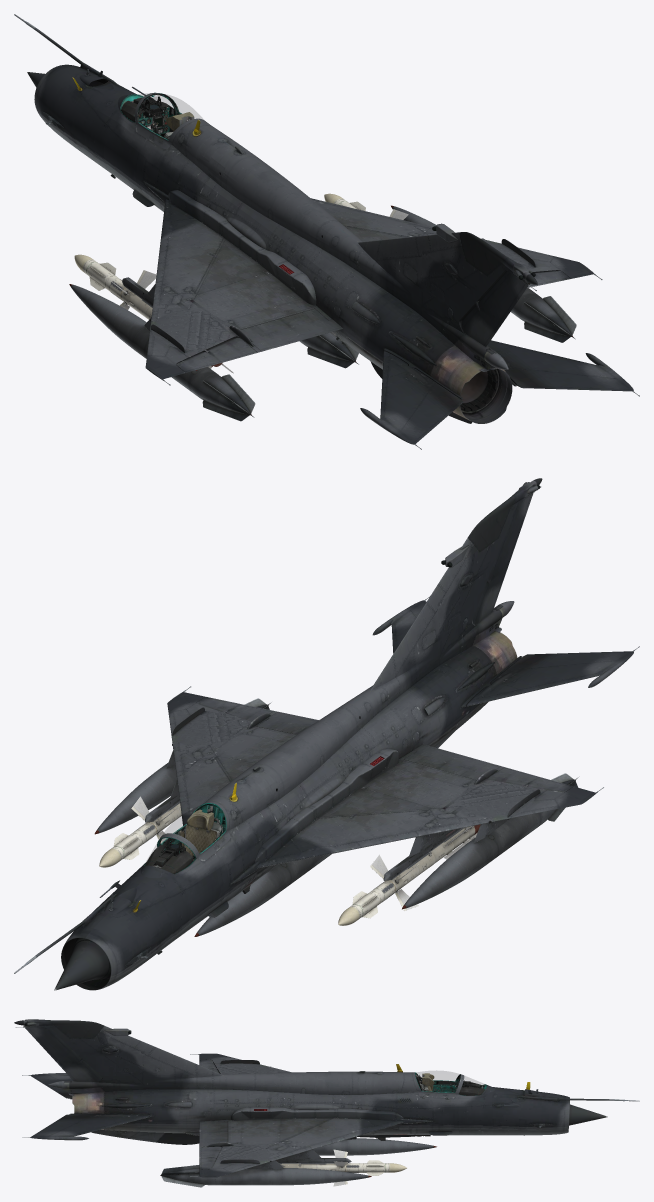
The model's file is mig21_hostile.glb.
The picture shows the model from 3 angles, top to bottom: view 1: azimuth 30°, elevation 25°; view 2: azimuth 150°, elevation 25°; view 3: azimuth 270°, elevation 25°; orthographic projection. The views are drawn at different scales.
Parts seen in each view (by area): view 1: airframe, underside, stab_L_airframe, stab_R_airframe, ventral, stores, rudder_airframe, flap_L_airframe, cockpit_interior, aileron_L_airframe; view 2: airframe, underside, stores, stab_L_airframe, ventral, rudder_airframe, cockpit_interior, flap_L_airframe, cockpit_seat, gear_doors, aileron_L_airframe, stab_R_airframe (+3 smaller); view 3: airframe, underside, stab_R_airframe, ventral, rudder_airframe, stores, cockpit_interior, flap_R_airframe, stab_L_airframe, pylons, aileron_R_airframe, gear_doors (+2 smaller).
Boxes of the visible parts, x1=… form: airframe: x1=14, y1=14, x2=639, y2=449; underside: x1=69, y1=205, x2=576, y2=421; stab_L_airframe: x1=360, y1=348, x2=463, y2=444; stab_R_airframe: x1=487, y1=340, x2=633, y2=391; ventral: x1=168, y1=190, x2=316, y2=305; stores: x1=74, y1=193, x2=408, y2=373; rudder_airframe: x1=460, y1=271, x2=527, y2=346; flap_L_airframe: x1=240, y1=308, x2=343, y2=351; cockpit_interior: x1=120, y1=93, x2=199, y2=140; aileron_L_airframe: x1=176, y1=336, x2=257, y2=372; airframe: x1=14, y1=478, x2=639, y2=990; underside: x1=94, y1=698, x2=578, y2=936; stores: x1=99, y1=796, x2=480, y2=925; stab_L_airframe: x1=461, y1=651, x2=633, y2=707; ventral: x1=255, y1=748, x2=398, y2=862; rudder_airframe: x1=472, y1=494, x2=532, y2=625; cockpit_interior: x1=144, y1=803, x2=226, y2=874; flap_L_airframe: x1=404, y1=744, x2=500, y2=780; cockpit_seat: x1=179, y1=806, x2=221, y2=860; gear_doors: x1=145, y1=795, x2=464, y2=880; aileron_L_airframe: x1=487, y1=767, x2=573, y2=792; stab_R_airframe: x1=372, y1=600, x2=426, y2=653; airframe: x1=14, y1=1019, x2=639, y2=1177; underside: x1=160, y1=1138, x2=436, y2=1187; stab_R_airframe: x1=30, y1=1113, x2=152, y2=1140; ventral: x1=231, y1=1107, x2=403, y2=1120; rudder_airframe: x1=25, y1=1027, x2=102, y2=1081; stores: x1=280, y1=1149, x2=406, y2=1186; cockpit_interior: x1=415, y1=1072, x2=486, y2=1095; flap_R_airframe: x1=199, y1=1120, x2=228, y2=1146; stab_L_airframe: x1=30, y1=1073, x2=73, y2=1099; pylons: x1=247, y1=1149, x2=321, y2=1169; aileron_R_airframe: x1=199, y1=1146, x2=222, y2=1169; gear_doors: x1=276, y1=1158, x2=351, y2=1164.
Size of the model in its own units: 7.33 by 3.74 by 15.76.
Materials: 14 (11 with a texture image).
